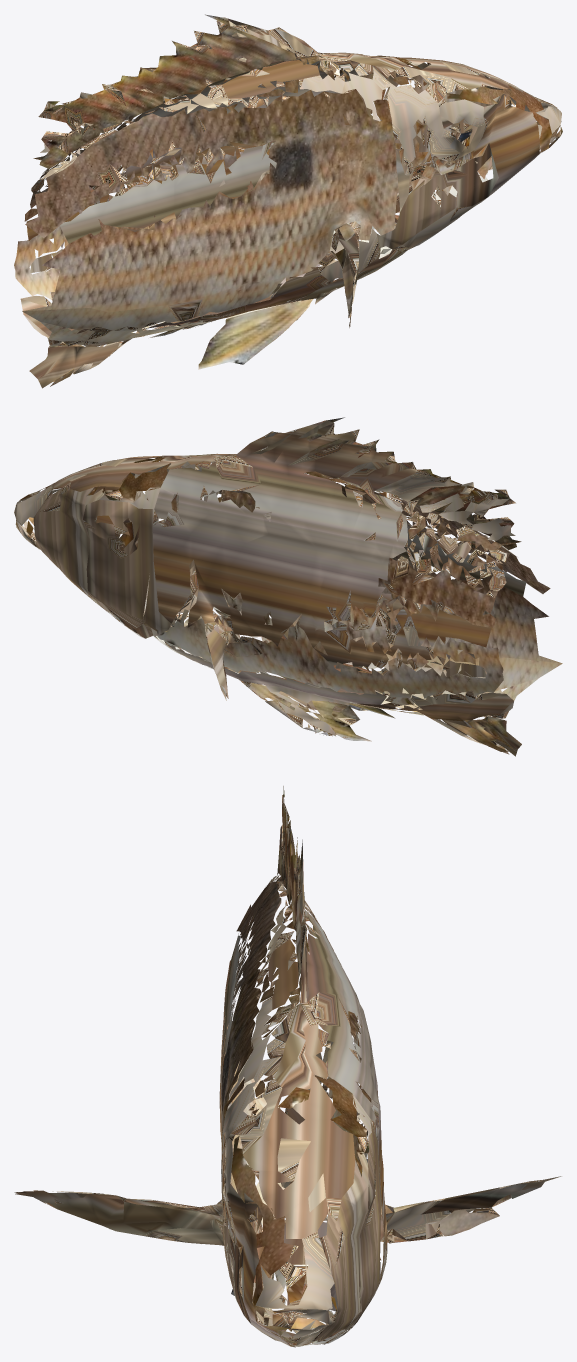
Rendered from blueemperor_a.glb.
3 views of the same model, one above another, from view 1: azimuth 30°, elevation 25°; view 2: azimuth 150°, elevation 25°; view 3: azimuth 270°, elevation 25° (orthographic). The views are drawn at different scales.
Parts seen in each view (by area): view 1: blueemperor_a; view 2: blueemperor_a; view 3: blueemperor_a.
Part boxes in pixels (x1,y1,x2,y2): blueemperor_a: (14, 14, 562, 388); blueemperor_a: (14, 417, 562, 756); blueemperor_a: (14, 786, 561, 1347).
Bounding box in the file's own units: 0.4046 × 0.2311 × 0.2558.
Materials: 1 (1 with a texture image).
